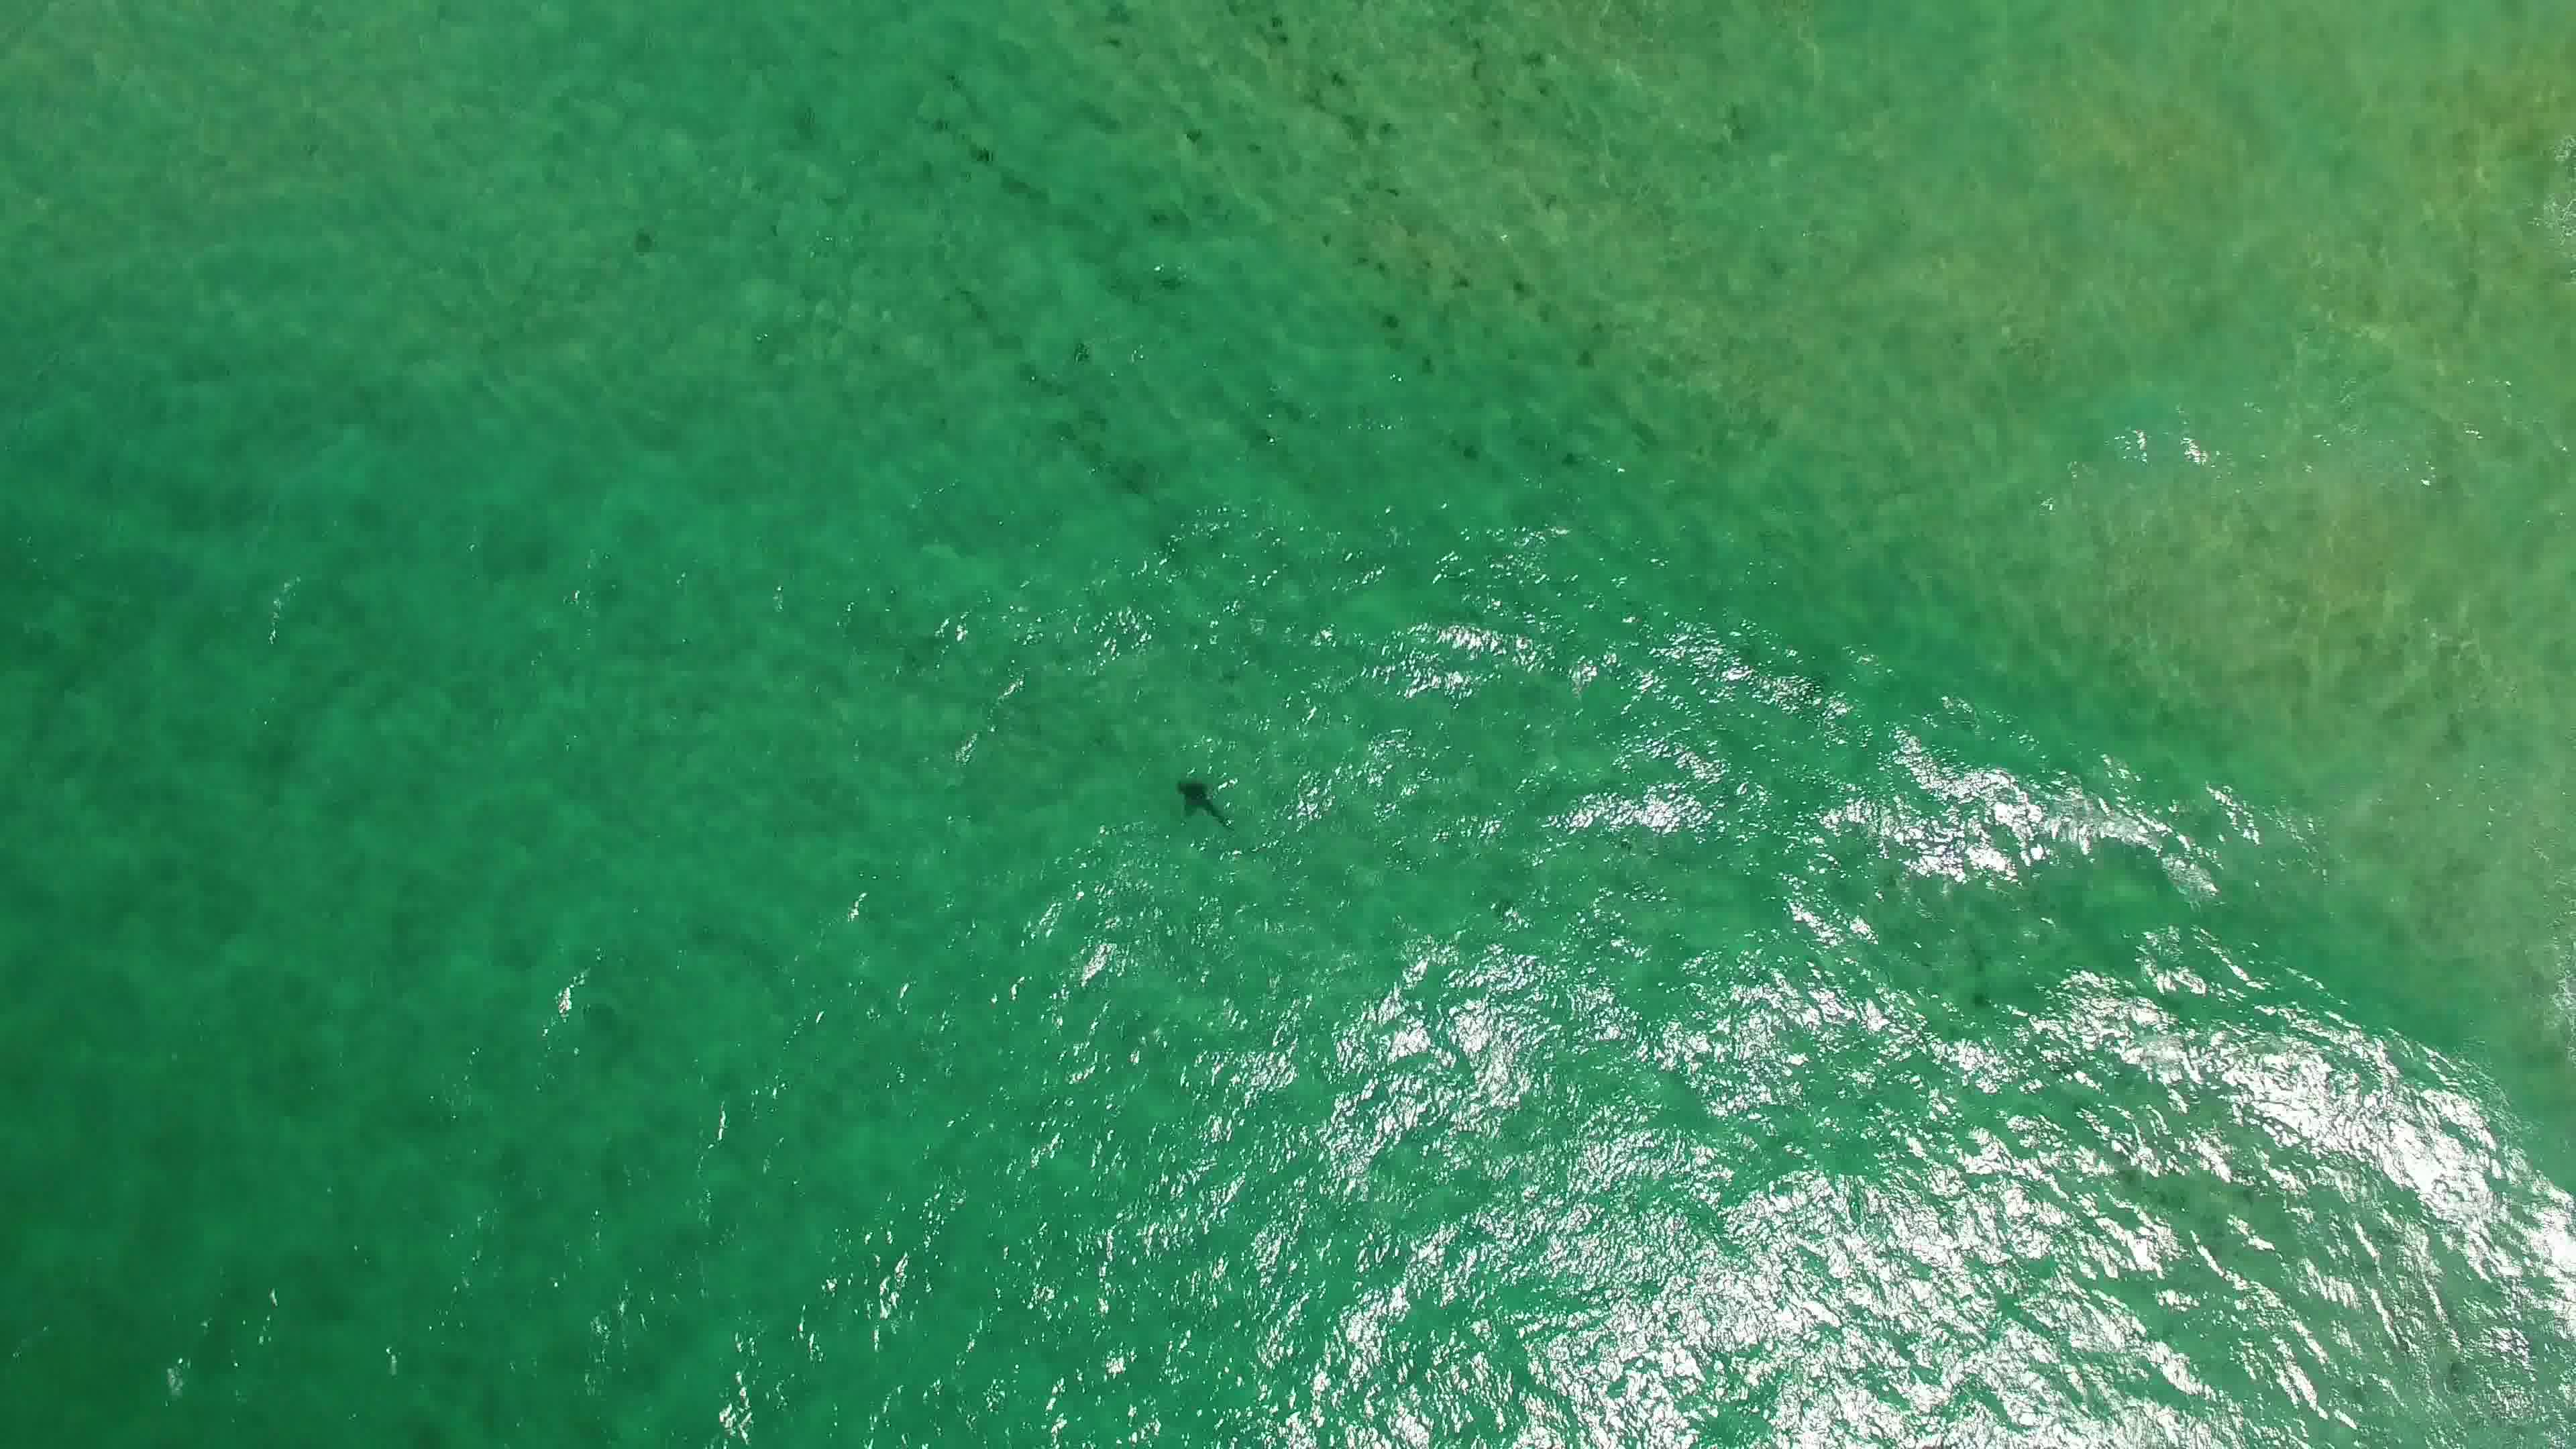shark: (1169, 768, 1238, 832)
